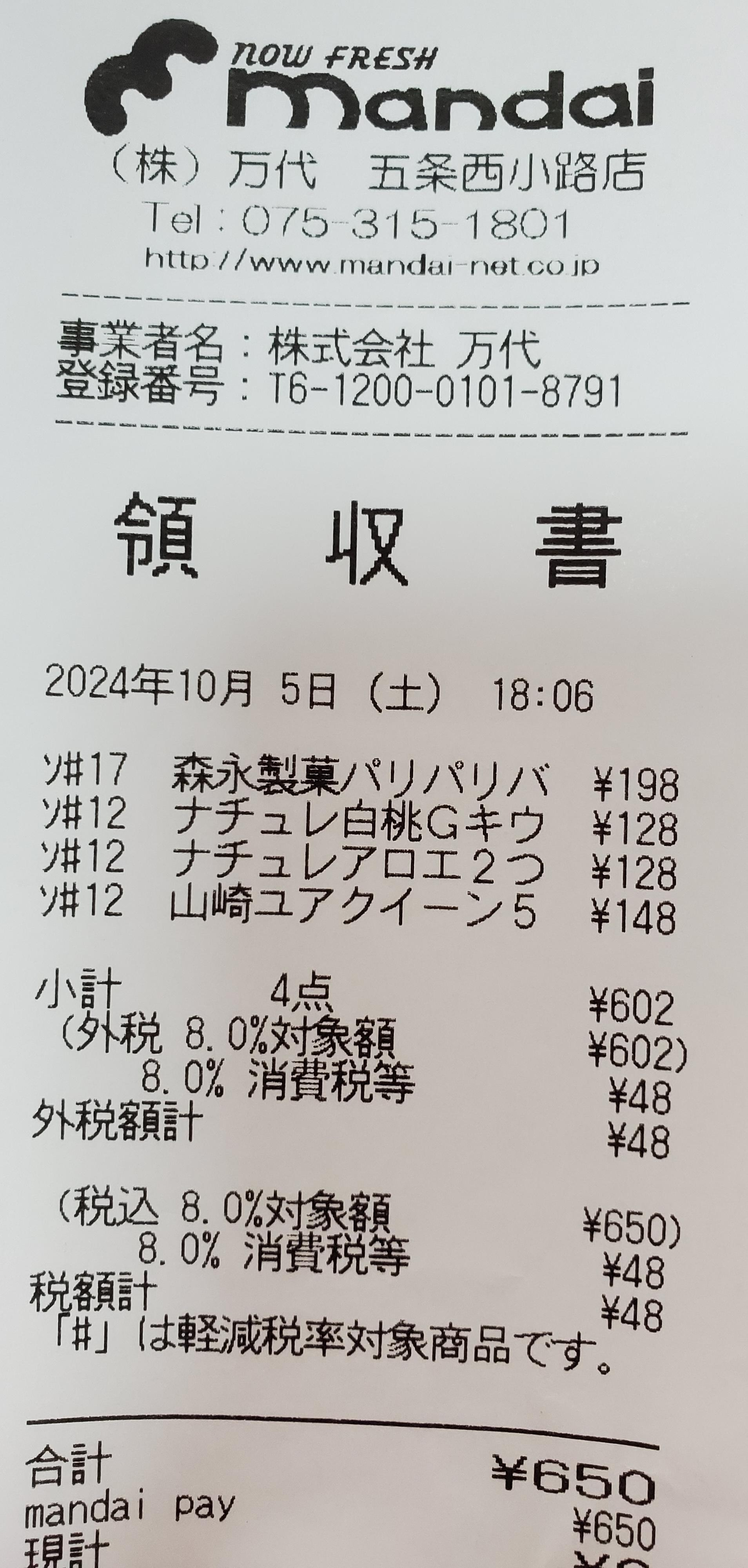TEL: (239, 196, 582, 249)
date: (47, 653, 336, 717)
total: (535, 1457, 659, 1512)
